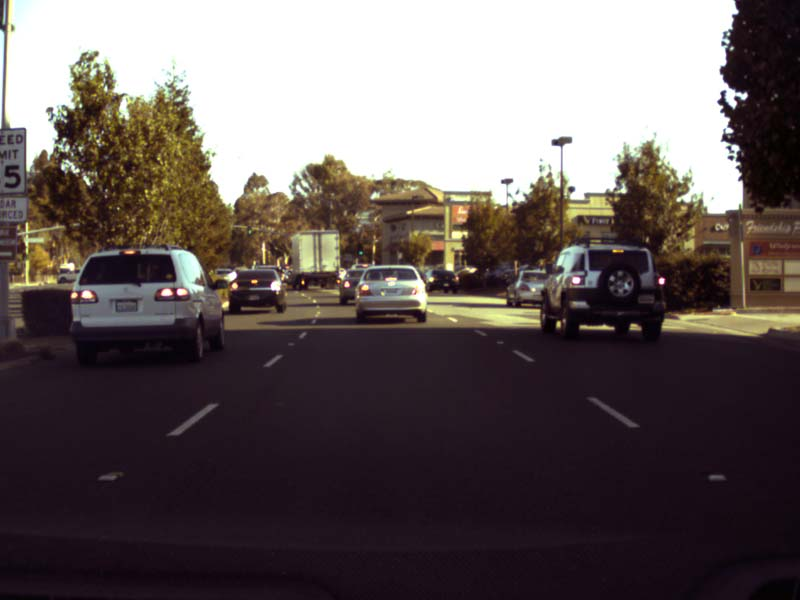Green: (357, 243, 363, 254), (247, 226, 251, 234)
